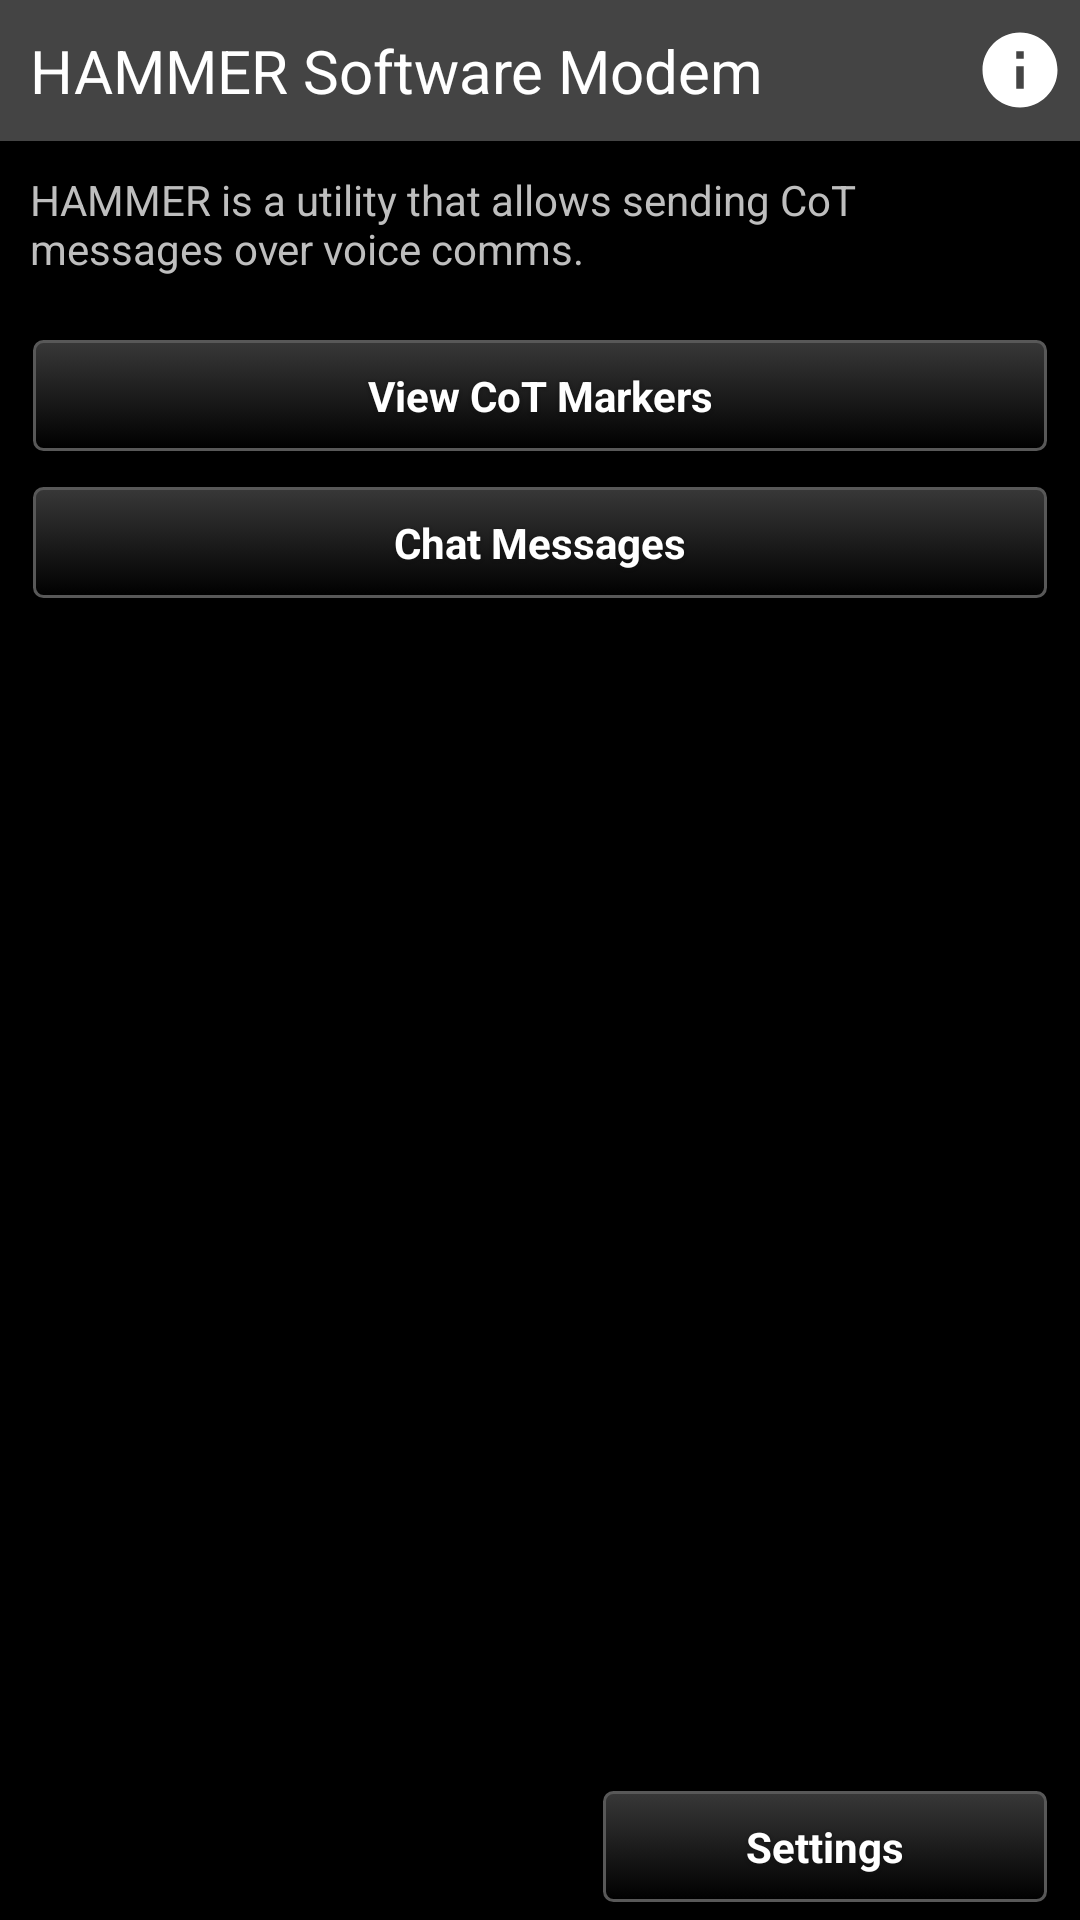

Named icons in this screenshot (1080px x 1920px) and their bounding boxes, box=[x1, y1, x2, y2]:
info: box=[982, 32, 1058, 108]
